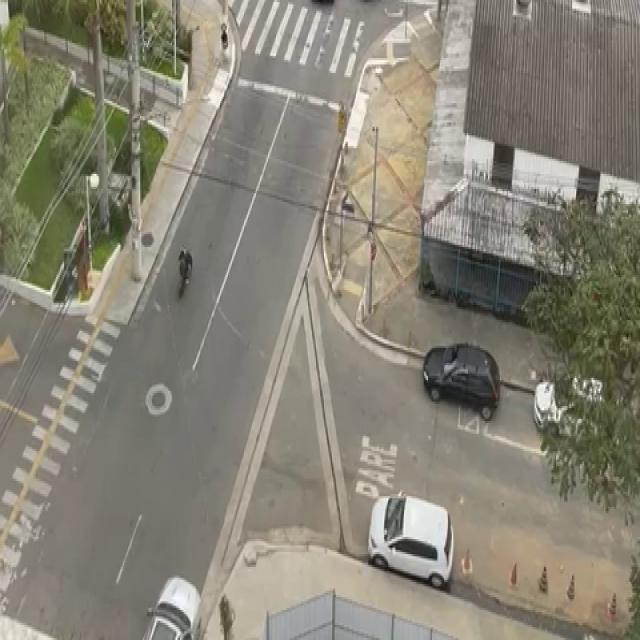car: (358, 488, 464, 592), (420, 338, 505, 428)
motorbike: (169, 241, 198, 303)
